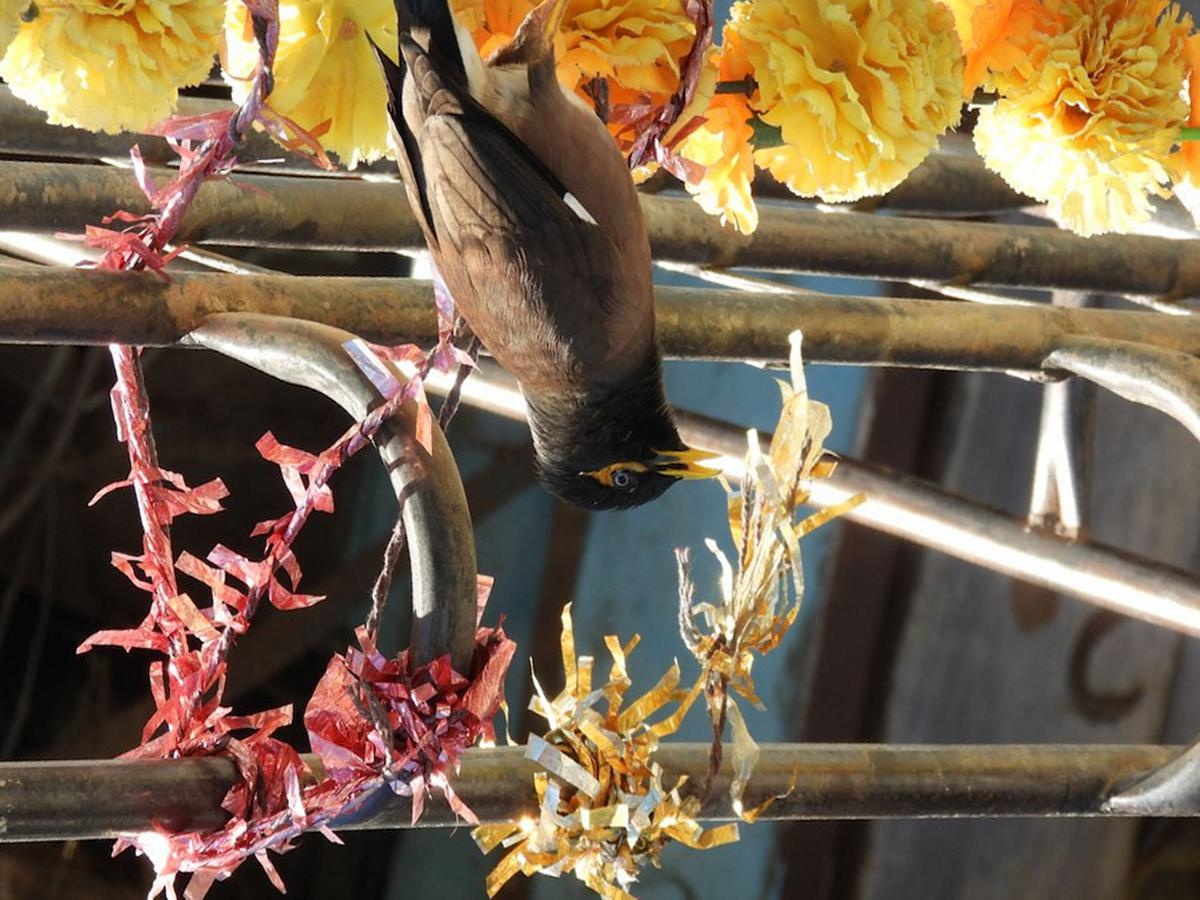myna: (397, 47, 737, 510)
